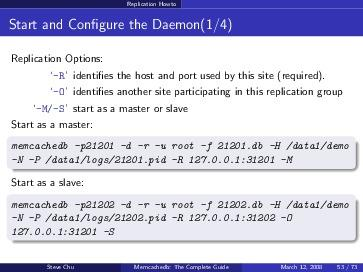paragraph: (2, 49, 363, 245)
title: (5, 10, 239, 36)
